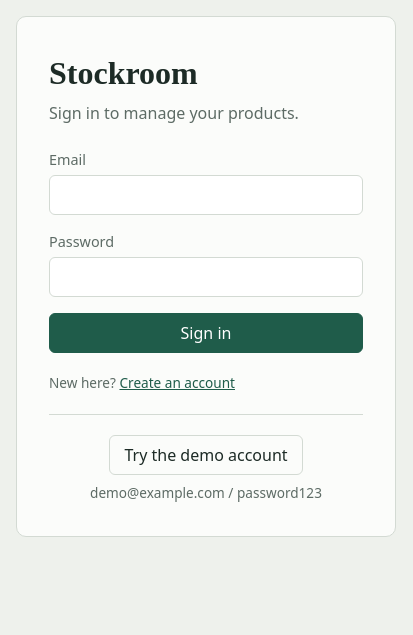
Test case: register › shows a confirm-password field
Click the button "Create an account".
click(177, 384)  # box x1=120 y1=373 x2=235 y2=394
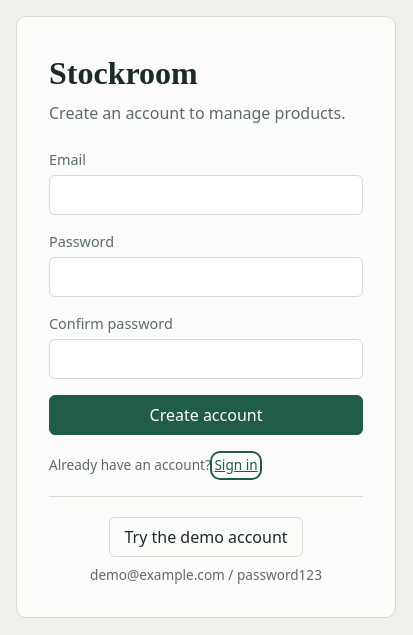
Now the password field labelled "Confirm password" is shown, box x1=49 y1=339 x2=363 y2=379
Now the button "Create account" is shown, box x1=49 y1=395 x2=363 y2=435
